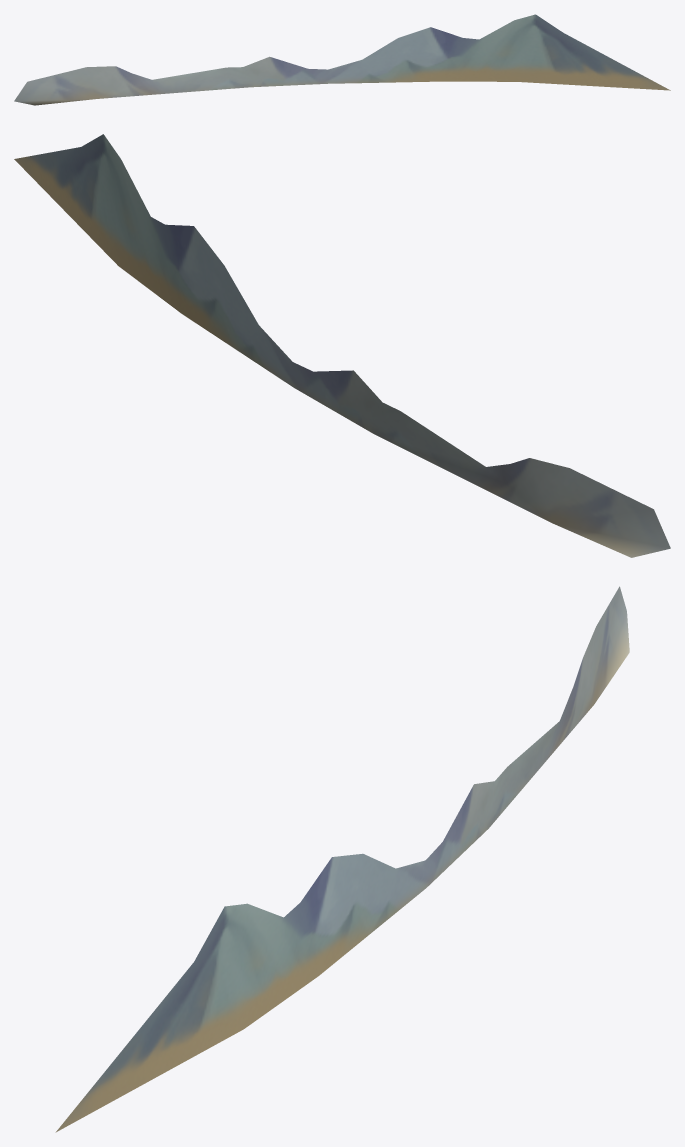
The model's file is sucai_17.FBX.
The picture shows the model from 3 angles, top to bottom: view 1: azimuth 30°, elevation 25°; view 2: azimuth 150°, elevation 25°; view 3: azimuth 270°, elevation 25°; orthographic projection. The views are drawn at different scales.
Parts seen in each view (by area): view 1: sucai_17; view 2: sucai_17; view 3: sucai_17.
Part boxes in pixels (left/top/right/bottom): sucai_17: left=14, top=14, right=670, bottom=105; sucai_17: left=14, top=134, right=670, bottom=557; sucai_17: left=55, top=586, right=629, bottom=1132.
Bounding box in the file's own units: 811 × 102 × 392.
